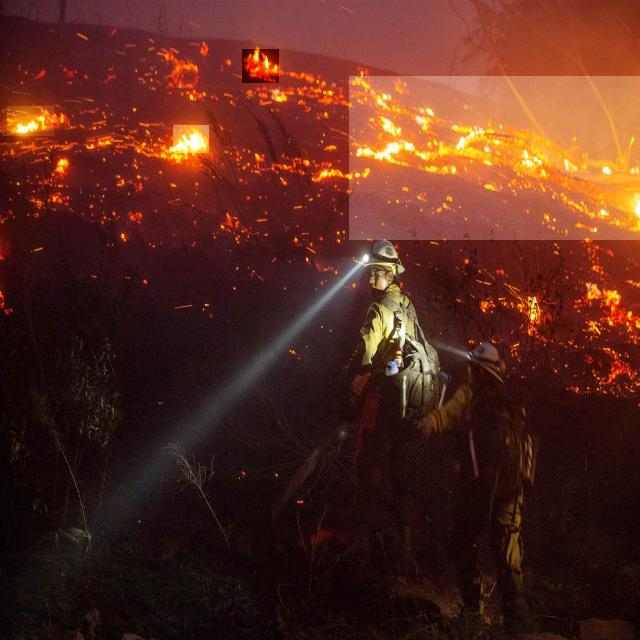Fire: (349, 76, 640, 240), (7, 106, 54, 136), (242, 49, 279, 83), (173, 125, 209, 153)
